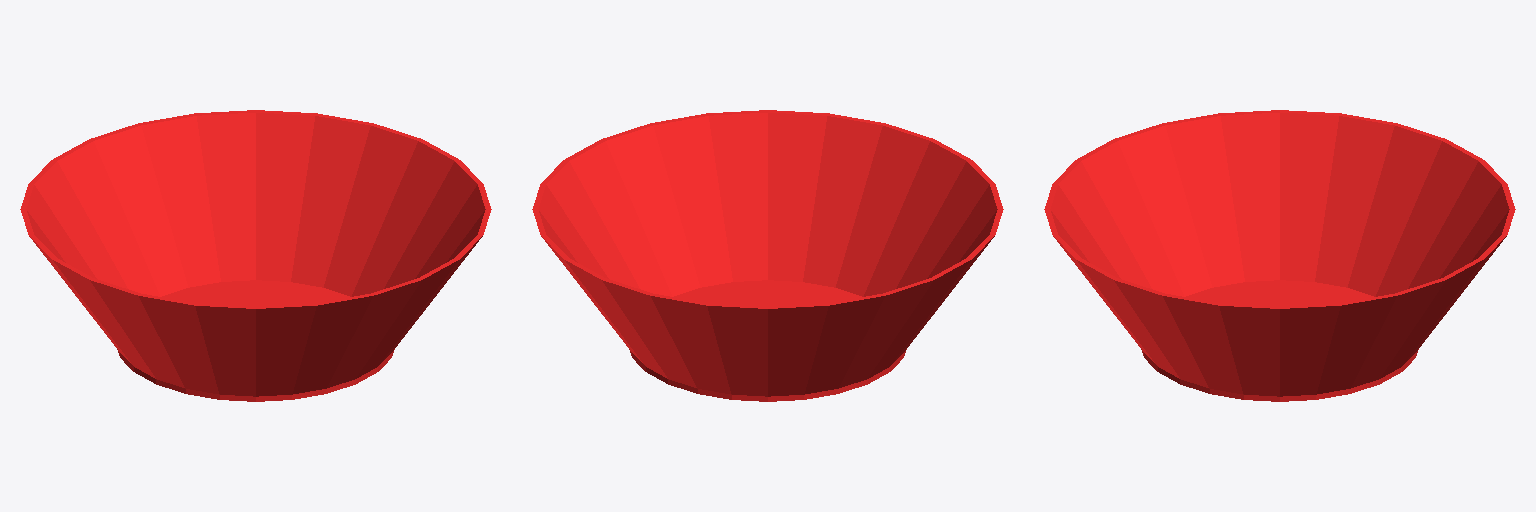
robot.urdf — bowl:
<?xml version="0.0" ?>
<robot name="bowl">
    <link concave="yes" name="base_link">
        <!-- <contact>
            <lateral_friction value="3.0"/>
            <rolling_friction value="3.0"/>
            <spinning_friction value="3.0"/>
        </contact> -->
        <inertial>
            <origin xyz="0 0 0.03"/>
            <mass value="1"/>
            <inertia ixx="1" ixy="0" ixz="0" iyy="1" iyz="0" izz="1"/>
        </inertial>
        <visual>
            <origin xyz="0 0 0"/>
            <geometry>
                <mesh filename="bowl.obj" scale="0.008 0.008 0.008 "/>
            </geometry>
      <material name="bowl">
        <color rgba="1 0.2 0.2 1"/>
        <specular rgb="1 1 1"/>
      </material>
        </visual>
        <collision concave="yes">
            <origin xyz="0 0 0"/>
            <geometry>
                <mesh filename="bowl.obj" scale="0.008 0.008 0.008 "/>
            </geometry>
        </collision>
    </link>
</robot>

--- What the picture shows (computed from the rendered views, not written in the file) ---
3 views of the same robot in one strip: view 1: azimuth 30°, elevation 25°; view 2: azimuth 150°, elevation 25°; view 3: azimuth 270°, elevation 25° (orthographic).
Model bowl with 1 links and 0 joints (none), rooted at base_link, posed all joints at 0.
Links seen in each view (by area): view 1: base_link; view 2: base_link; view 3: base_link.
Link boxes in pixels (x1,y1,x2,y2): base_link: [20, 110, 491, 401]; base_link: [532, 110, 1003, 401]; base_link: [1044, 110, 1515, 401].
Bounding box of the posed robot: 0.1606 × 0.1606 × 0.05 m (x, y, z).
1 mesh visuals loaded from 1 distinct referenced files (1 OBJ).